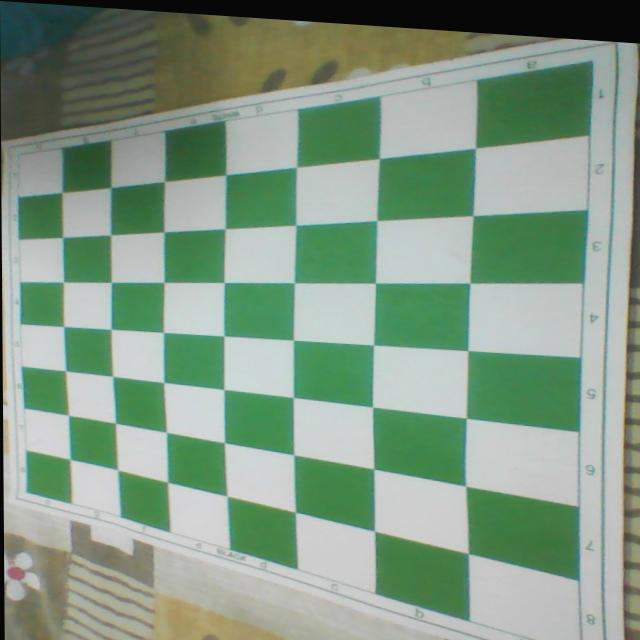square: (472, 49, 598, 153), (470, 127, 592, 221), (469, 199, 592, 289), (464, 489, 582, 581), (464, 418, 583, 505), (464, 349, 584, 433), (467, 556, 586, 640), (465, 275, 586, 357), (375, 74, 478, 162), (375, 142, 476, 225), (370, 471, 471, 554), (371, 535, 469, 619), (373, 207, 475, 286), (371, 406, 469, 485), (372, 274, 470, 351), (372, 345, 470, 417), (294, 91, 383, 169), (292, 152, 380, 228), (290, 516, 375, 593), (289, 456, 375, 532), (292, 214, 378, 288), (290, 397, 379, 467), (292, 276, 376, 346), (291, 338, 375, 406), (222, 104, 302, 175), (221, 444, 301, 514), (222, 163, 299, 232), (224, 499, 298, 569), (222, 220, 300, 285), (221, 388, 295, 455), (221, 275, 297, 340), (220, 334, 297, 397), (161, 114, 230, 182), (169, 482, 231, 549), (161, 382, 226, 444), (165, 432, 227, 496), (160, 277, 227, 336), (161, 224, 225, 284), (113, 423, 174, 483), (160, 332, 224, 389), (116, 471, 172, 534), (165, 175, 228, 231), (108, 178, 167, 236), (111, 377, 171, 433), (108, 277, 167, 332), (109, 328, 169, 382), (64, 369, 120, 424), (112, 130, 166, 187), (60, 139, 114, 195), (70, 459, 121, 515), (61, 231, 114, 284), (67, 415, 119, 469), (111, 231, 166, 282), (62, 326, 114, 375), (62, 187, 112, 237), (18, 366, 69, 415), (22, 452, 71, 503), (15, 188, 63, 240), (62, 281, 113, 329), (25, 407, 71, 459), (17, 278, 63, 326), (16, 148, 62, 196), (21, 323, 66, 370), (19, 237, 63, 282)
